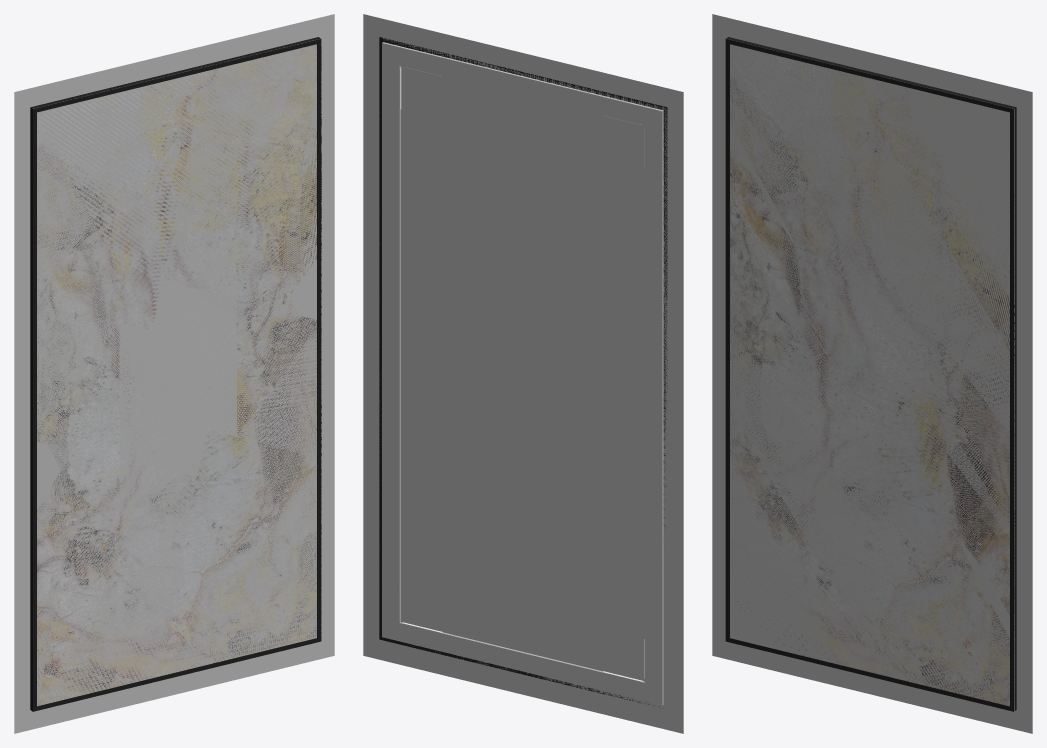
Rendered from Rock_sheet_PINK.dae.
3 views of the same model, side by side, from view 1: azimuth 30°, elevation 25°; view 2: azimuth 150°, elevation 25°; view 3: azimuth 330°, elevation 25° (orthographic).
Visible parts, largest first — view 1: group_16, image_0, group_6, group_4, group_5, group_7; view 2: image_0, group_1 (×2), group_4, group_5, group_6, group_7; view 3: group_16, image_0, group_4, group_6, group_5, group_7.
Boxes of the visible parts, left/top/right/bottom form: group_16: left=33, top=38, right=321, bottom=706; image_0: left=14, top=14, right=334, bottom=733; group_6: left=30, top=107, right=36, bottom=711; group_4: left=317, top=39, right=321, bottom=640; group_5: left=31, top=37, right=320, bottom=112; group_7: left=33, top=638, right=320, bottom=711; image_0: left=363, top=14, right=683, bottom=733; group_1 (×2): left=382, top=42, right=663, bottom=705; group_4: left=379, top=37, right=382, bottom=638; group_5: left=380, top=37, right=666, bottom=109; group_6: left=663, top=107, right=667, bottom=526; group_7: left=379, top=637, right=659, bottom=706; group_16: left=726, top=38, right=1014, bottom=711; image_0: left=712, top=14, right=1032, bottom=733; group_4: left=1010, top=107, right=1016, bottom=711; group_6: left=725, top=39, right=729, bottom=640; group_5: left=726, top=37, right=1015, bottom=112; group_7: left=726, top=638, right=1013, bottom=711.
Size of the model in its own units: 53.57 by 1.14 by 102.
